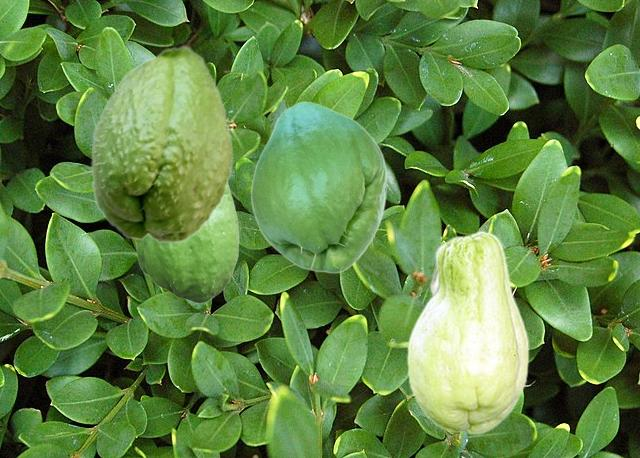sayote: (90, 44, 233, 243), (406, 230, 528, 434), (250, 101, 386, 273), (136, 185, 238, 302)
